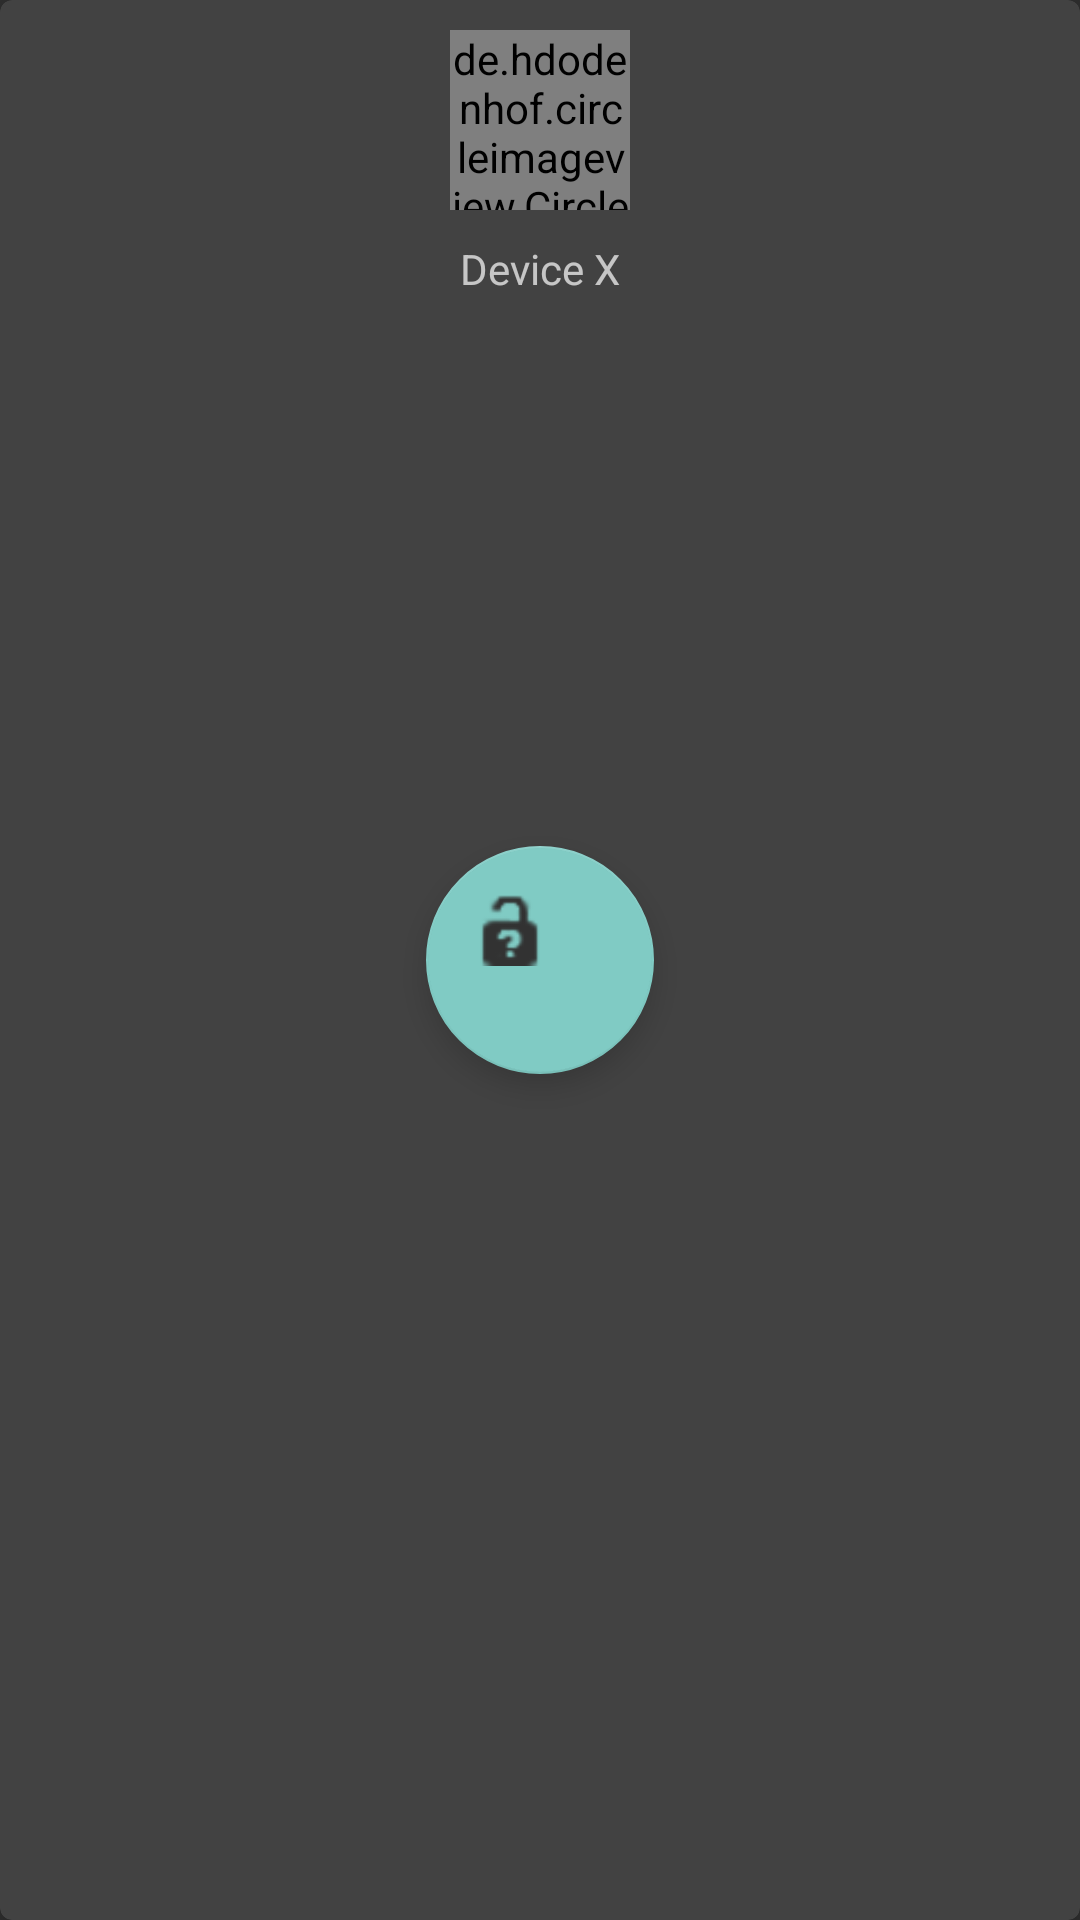

Icons on this 1080 x 1920 Android screen, each with its box as bbox=[x1, y1, x2, y2]:
partial secure: bbox=[426, 846, 654, 1074]
